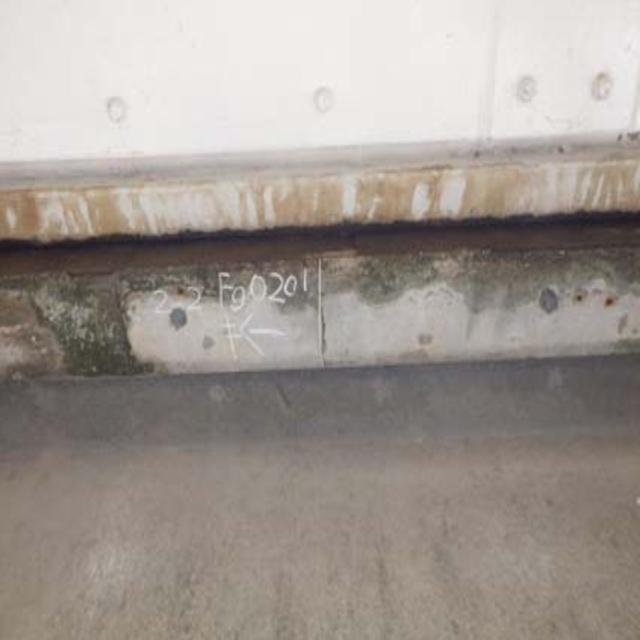corrosion: (11, 170, 640, 293)
